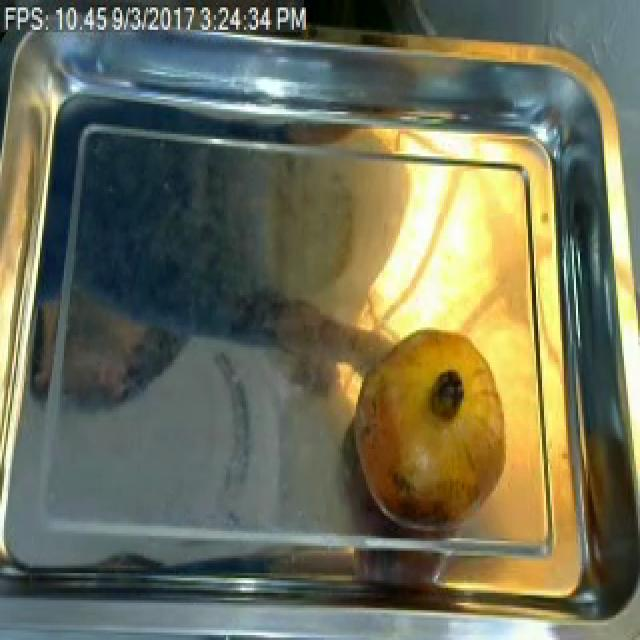fruit: (344, 315, 518, 543)
